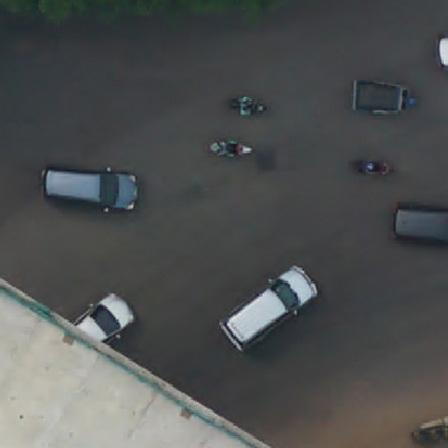Car: (218, 265, 319, 351), (39, 161, 142, 216), (64, 295, 139, 349), (388, 198, 448, 247), (439, 35, 448, 76)
Motorcycle: (350, 71, 419, 118), (226, 91, 268, 123), (350, 155, 399, 182), (205, 140, 256, 161)
